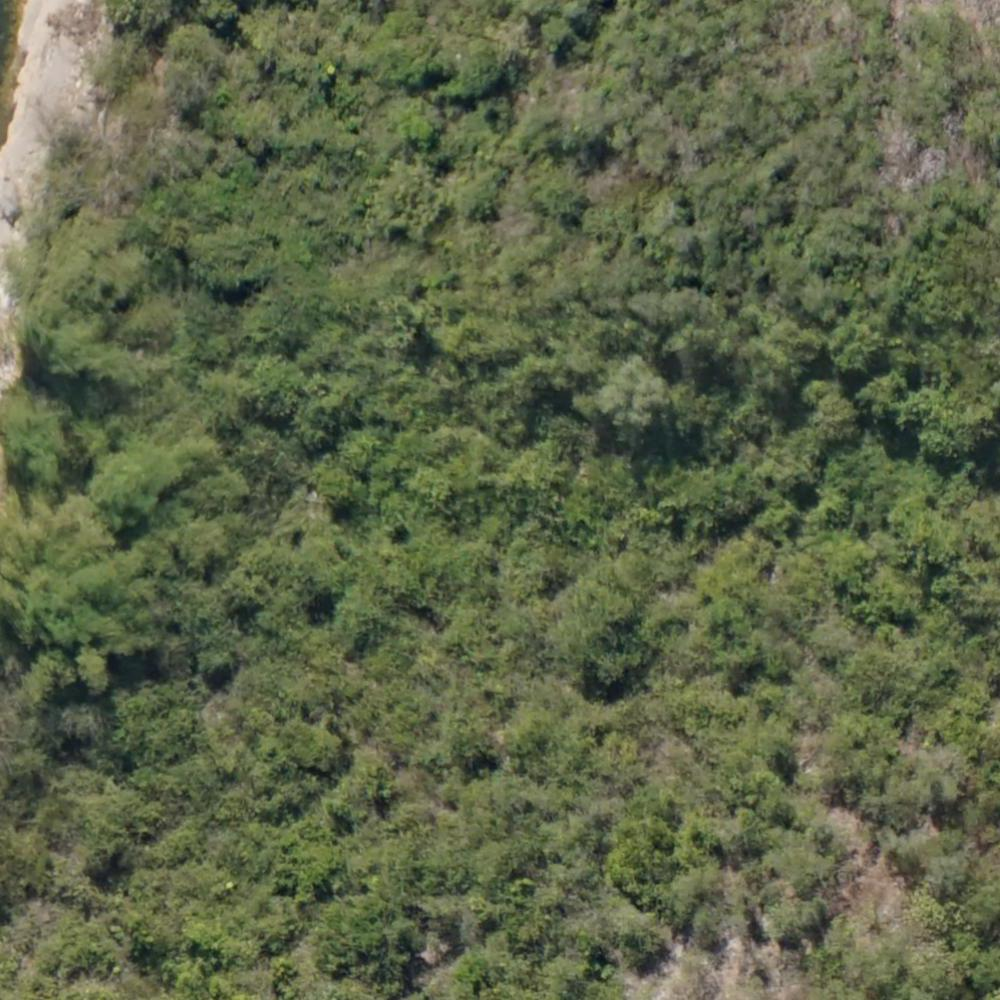tree: (190, 225, 270, 296), (86, 448, 163, 521), (374, 167, 440, 234), (601, 364, 663, 435), (278, 825, 338, 897), (431, 423, 491, 491), (451, 316, 512, 378), (780, 845, 836, 905), (440, 48, 500, 103), (287, 717, 343, 775), (921, 401, 972, 463), (251, 362, 302, 417), (600, 550, 653, 602), (742, 726, 797, 776), (334, 595, 383, 646), (505, 536, 552, 588), (186, 638, 237, 685), (199, 470, 247, 517), (699, 593, 749, 636), (448, 720, 493, 766), (829, 318, 874, 363), (510, 446, 556, 489), (928, 857, 970, 902), (866, 368, 905, 415), (314, 461, 355, 505), (675, 818, 716, 861), (816, 391, 852, 438), (663, 84, 704, 124), (466, 175, 501, 218), (544, 185, 586, 220), (816, 490, 851, 528), (177, 436, 213, 472)
